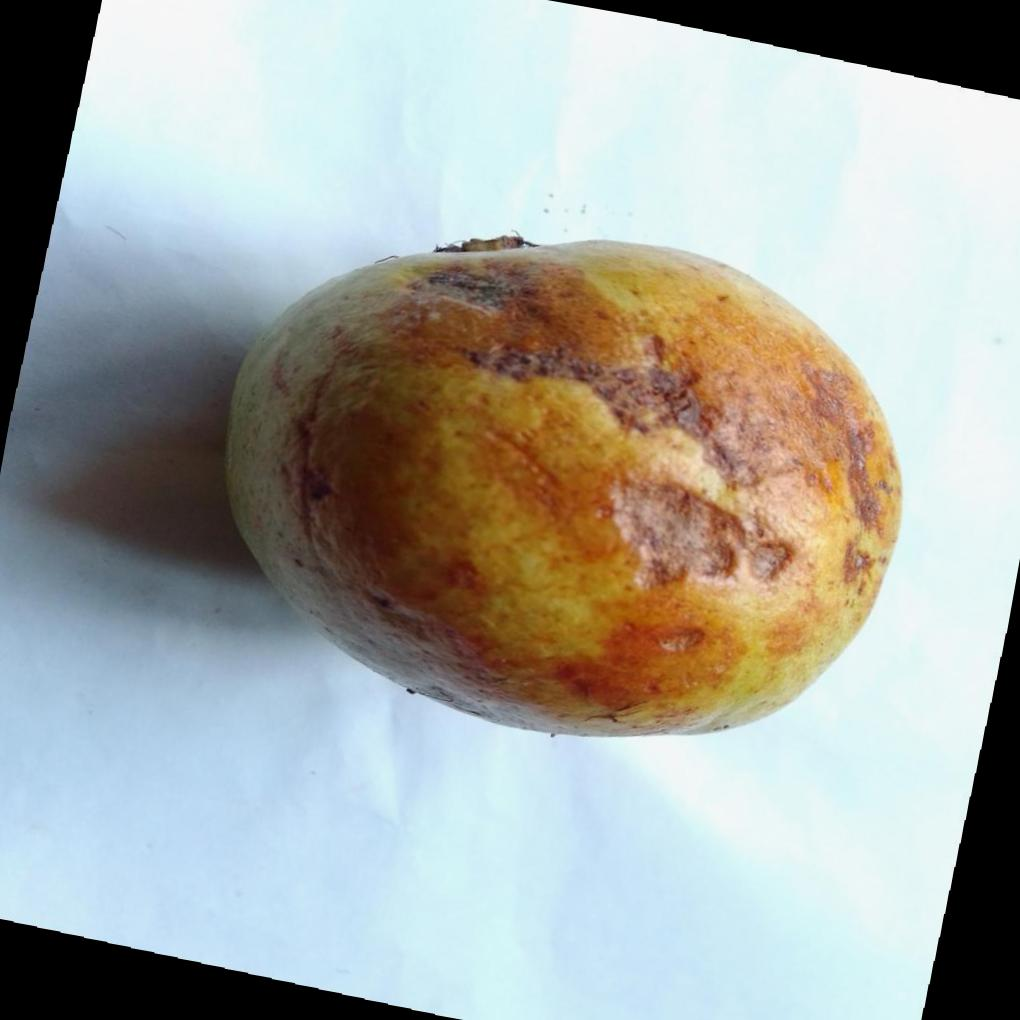FreshOrange: (222, 229, 904, 736)
